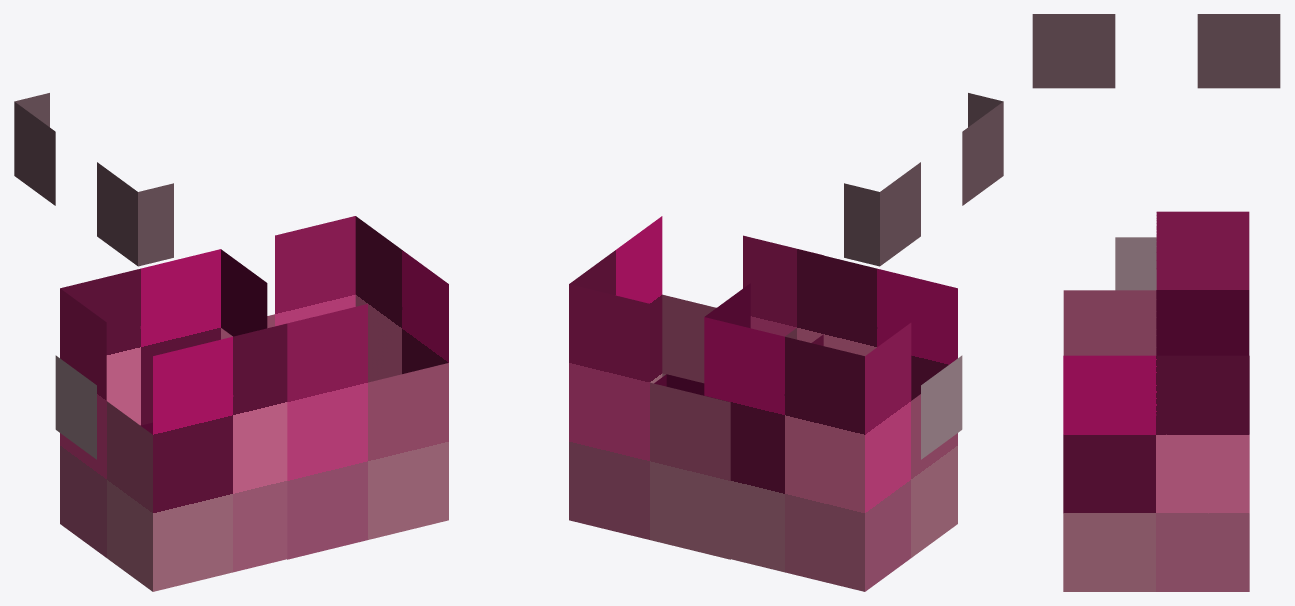
Rendered from sl_heart_fire_feet.glb.
3 views of the same model, side by side, from view 1: azimuth 30°, elevation 25°; view 2: azimuth 150°, elevation 25°; view 3: azimuth 270°, elevation 25° (orthographic).
Parts seen in each view (by area): view 1: bb_heart_fire_feet; view 2: bb_heart_fire_feet; view 3: bb_heart_fire_feet.
Boxes of the visible parts, x1,y1,x2,y2 form: bb_heart_fire_feet: (14,93,448,591); bb_heart_fire_feet: (569,93,1003,591); bb_heart_fire_feet: (1032,14,1280,591).
Bounding box in the file's own units: 0.6288 × 0.7072 × 0.3794.
1 material, 1 textured.
